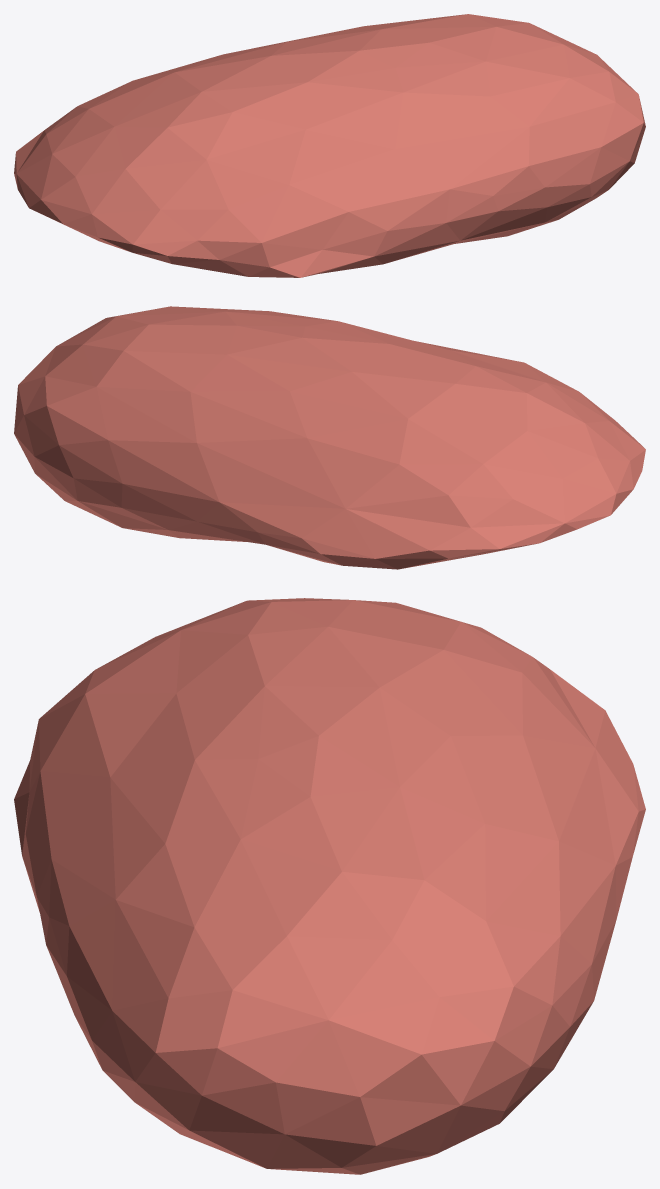
3 renders of one model, top to bottom at view 1: azimuth 30°, elevation 25°; view 2: azimuth 150°, elevation 25°; view 3: azimuth 270°, elevation 25°, orthographic. The views are drawn at different scales.
Parts seen in each view (by area): view 1: 10671.obj; view 2: 10671.obj; view 3: 10671.obj.
Boxes of the visible parts, <box> form: 10671.obj: <box>14,14,645,277</box>; 10671.obj: <box>14,306,645,569</box>; 10671.obj: <box>14,598,645,1174</box>.
Bounding box in the file's own units: 923 × 277 × 559.
